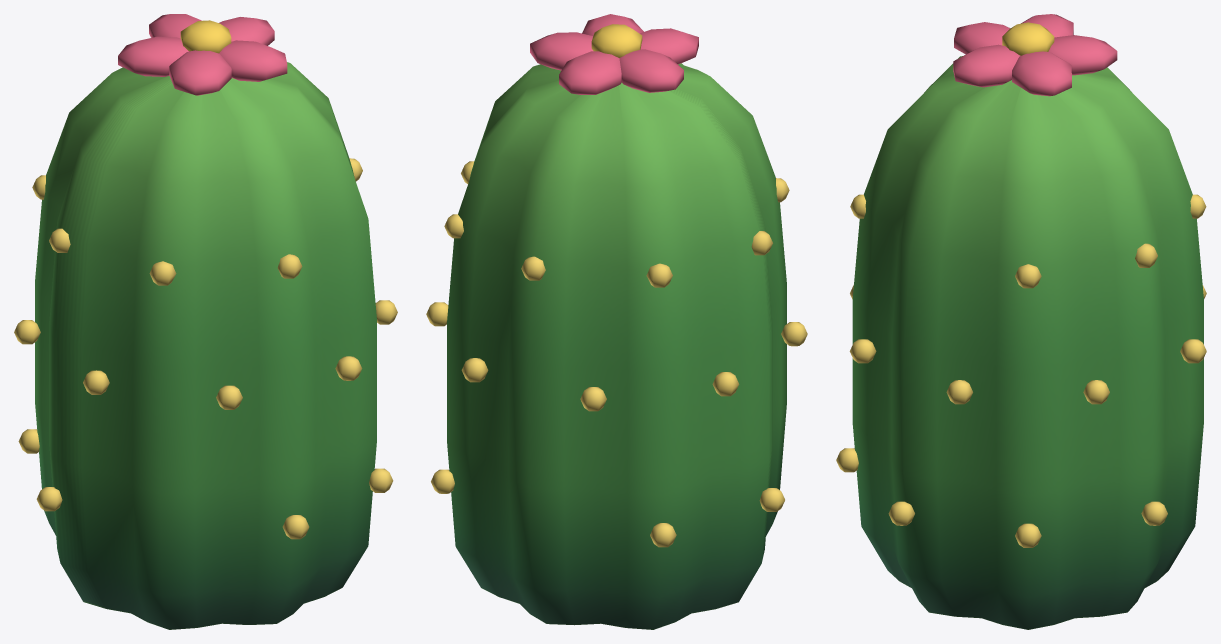
The model's file is cactus_flower.glb.
3 renders of one model, left to right at view 1: azimuth 30°, elevation 25°; view 2: azimuth 150°, elevation 25°; view 3: azimuth 270°, elevation 25°, orthographic.
Parts seen in each view (by area): view 1: cactus_flower; view 2: cactus_flower; view 3: cactus_flower.
Boxes of the visible parts, left/top/right/bottom form: cactus_flower: left=14, top=14, right=397, bottom=629; cactus_flower: left=426, top=14, right=807, bottom=629; cactus_flower: left=836, top=14, right=1206, bottom=629.
Bounding box in the file's own units: 0.6259 × 0.987 × 0.6094.
Materials: 4 (1 with a texture image).
